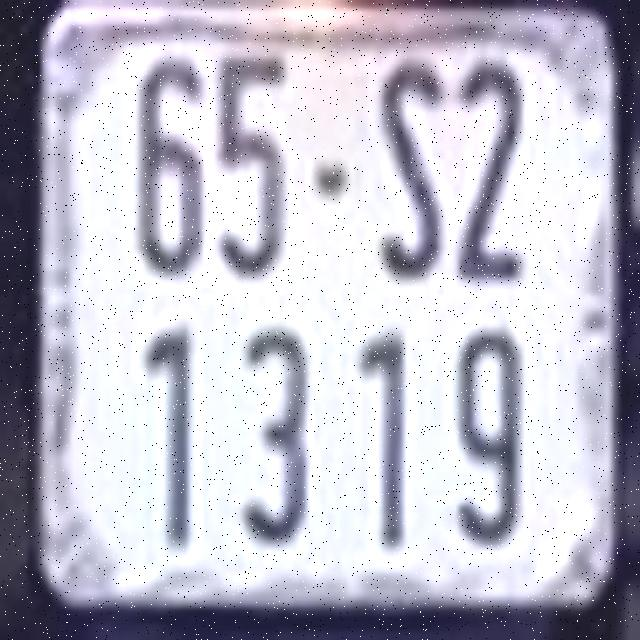1: (357, 328, 413, 549), (144, 326, 198, 547)
2: (457, 59, 527, 283)
3: (241, 325, 311, 544)
5: (216, 54, 288, 276)
6: (137, 56, 205, 274)
9: (453, 325, 523, 546)
S: (378, 61, 445, 277)
